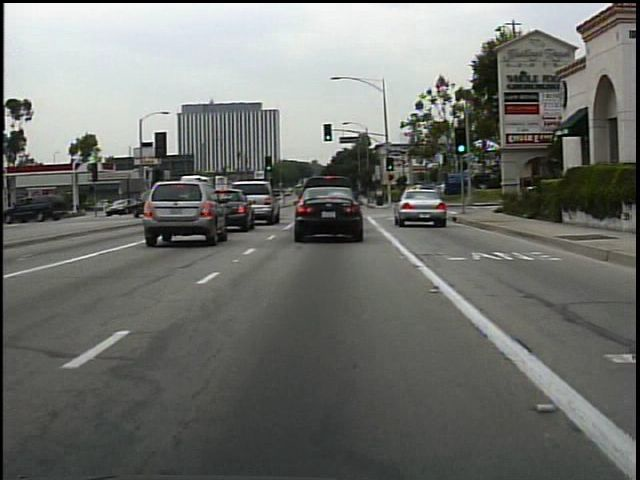person: (373, 184, 387, 209)
